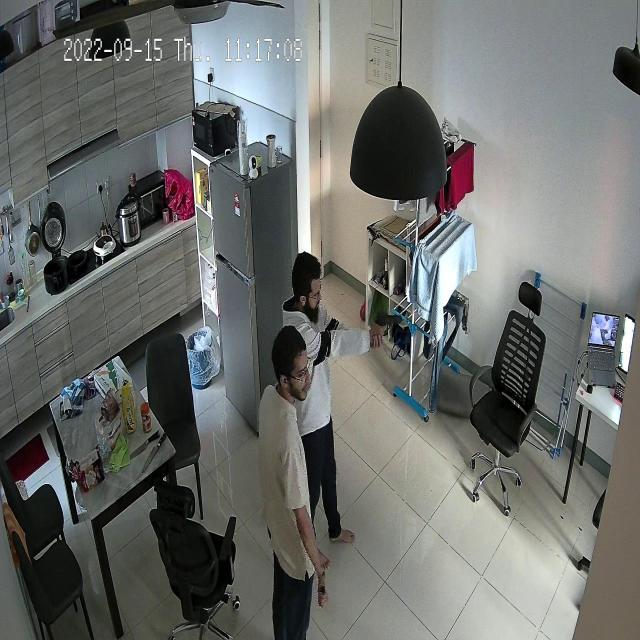Gun: (372, 301, 408, 347)
